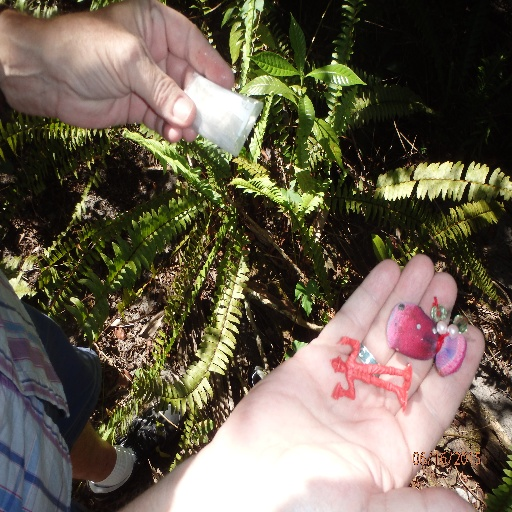hand: (212, 252, 485, 511), (40, 0, 235, 143)
